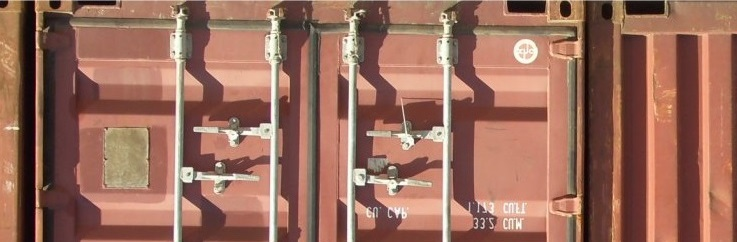container_door: (25, 2, 585, 242)
